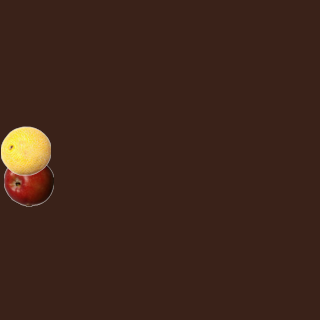Apple Braeburn: (3, 156, 53, 206)
Cantaloupe 1: (0, 125, 50, 175)
